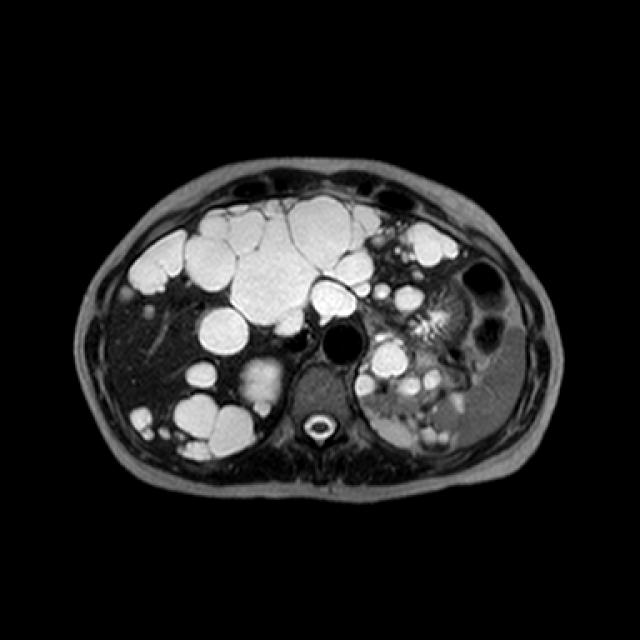sol: (353, 328, 469, 456)
